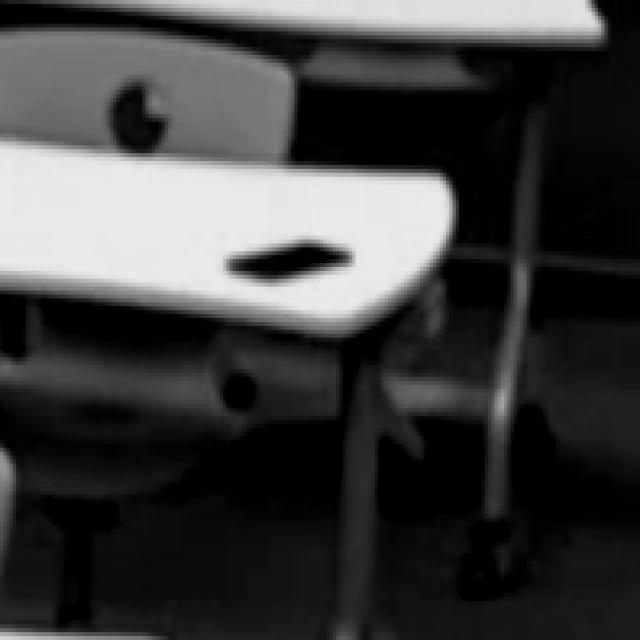fake: (222, 222, 363, 294)
